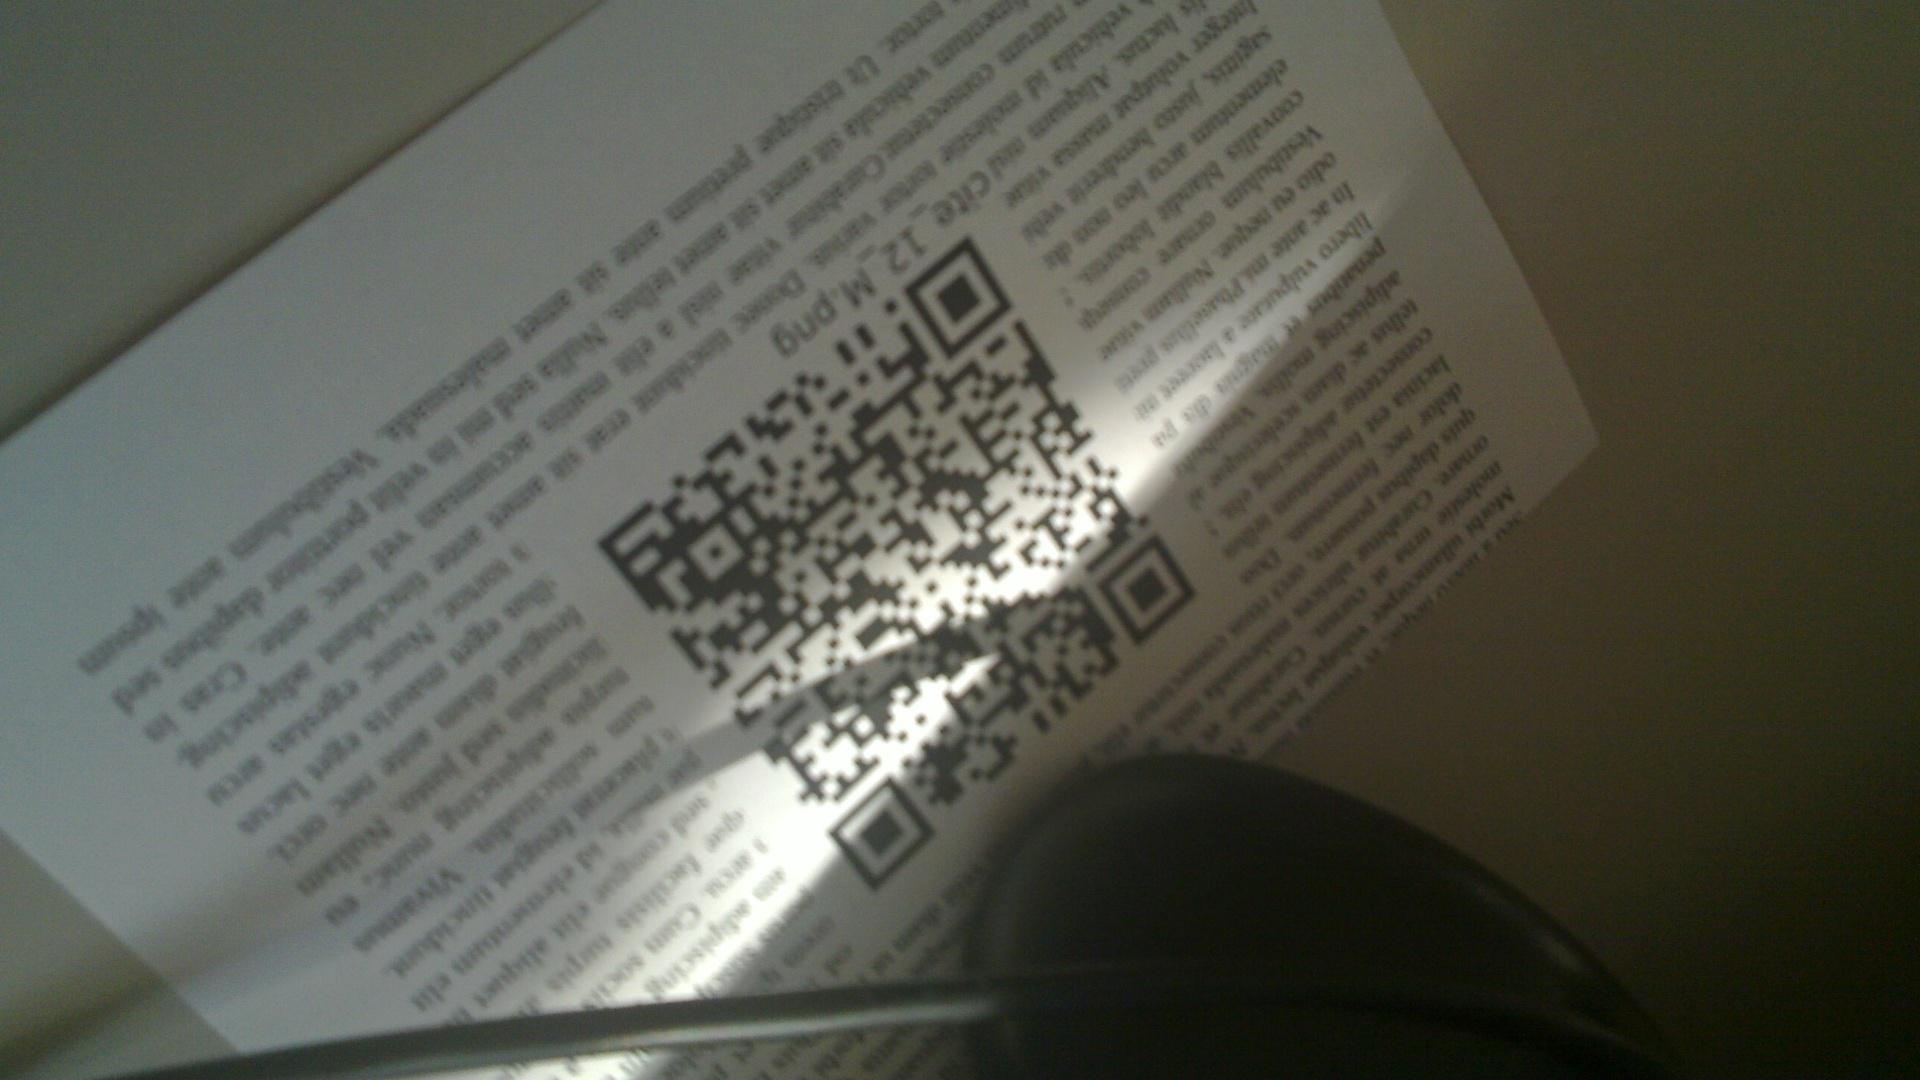Finder pattern: (899, 237, 1011, 359), (825, 781, 932, 891), (1098, 535, 1193, 644)
